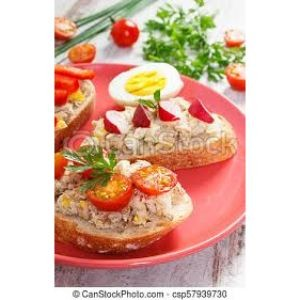tuna_brain food: (60, 107, 207, 244)
